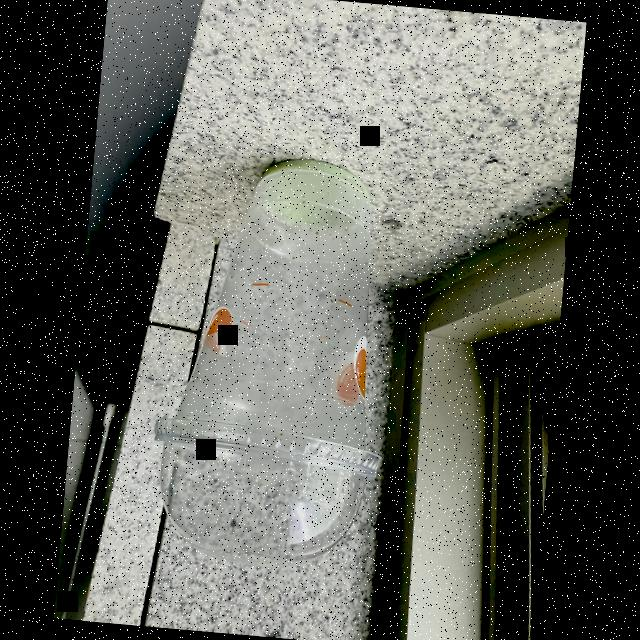plastic_cup: (141, 145, 411, 578)
plastic_cup_lid: (138, 412, 384, 573)
